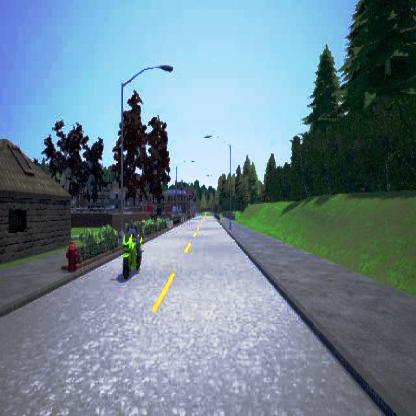motobike: (120, 218, 142, 279)
